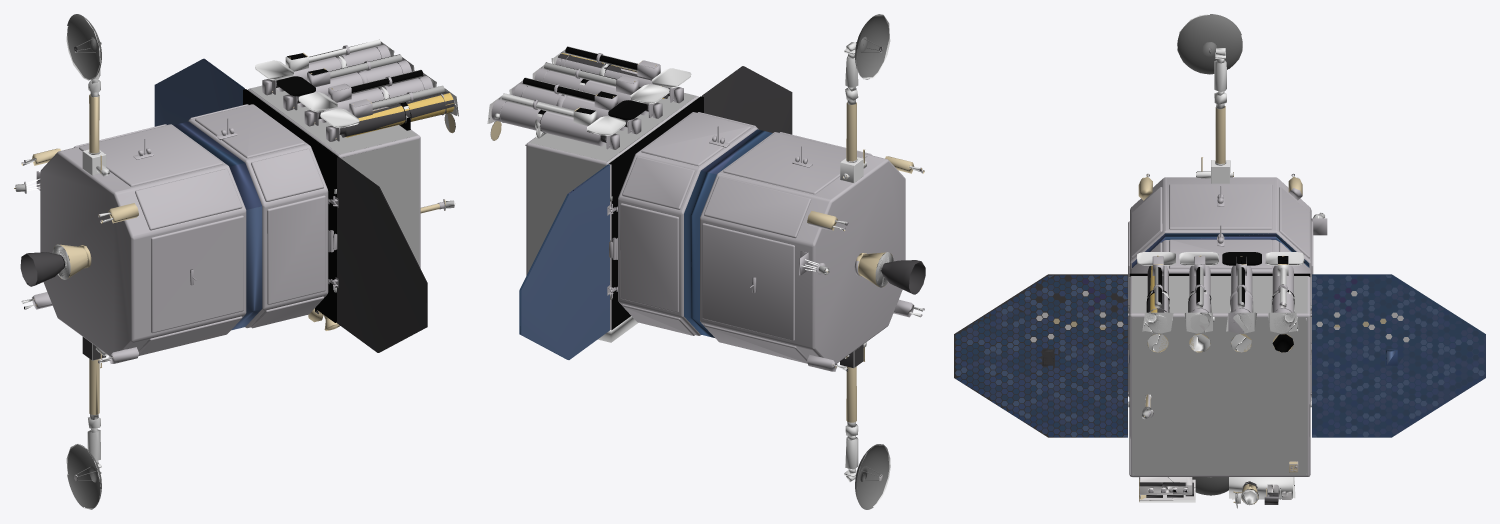
The model's file is sdo.glb.
3 views of the same model, side by side, from view 1: azimuth 30°, elevation 25°; view 2: azimuth 150°, elevation 25°; view 3: azimuth 270°, elevation 25° (orthographic). The views are drawn at different scales.
Visible parts, largest first — view 1: Fake; view 2: Fake; view 3: Fake.
Part boxes in pixels (bbox=[...]): Fake: bbox=[14, 14, 458, 509]; Fake: bbox=[487, 14, 925, 509]; Fake: bbox=[954, 14, 1485, 508].
Bounding box in the file's own units: 5.19 × 6.25 × 6.25.
